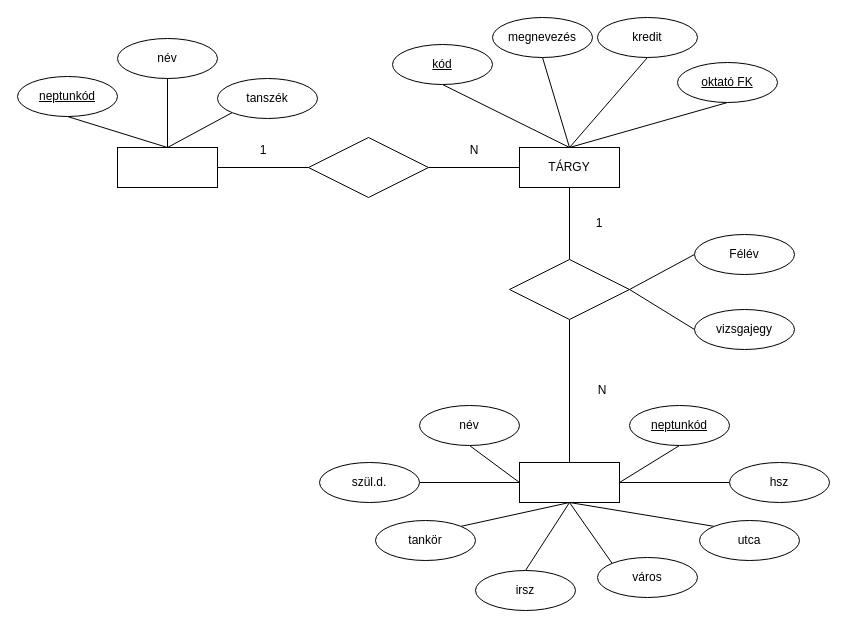
Some shapes in this 847 by 628 pixel diagram are drawn without their labels. Here are the shapes that lost their labels. From the top down, the centre of each, then its label:
At (167,167): "OKTATÓ".
At (368,167): "Tárgyat tart".
At (569,289): "Hallgat".
At (569,482): "HALLGATÓ".
